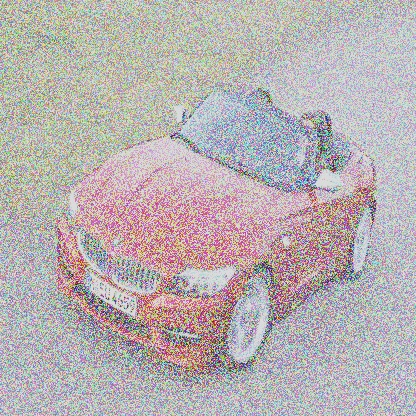Vehicle: (55, 85, 380, 374)
